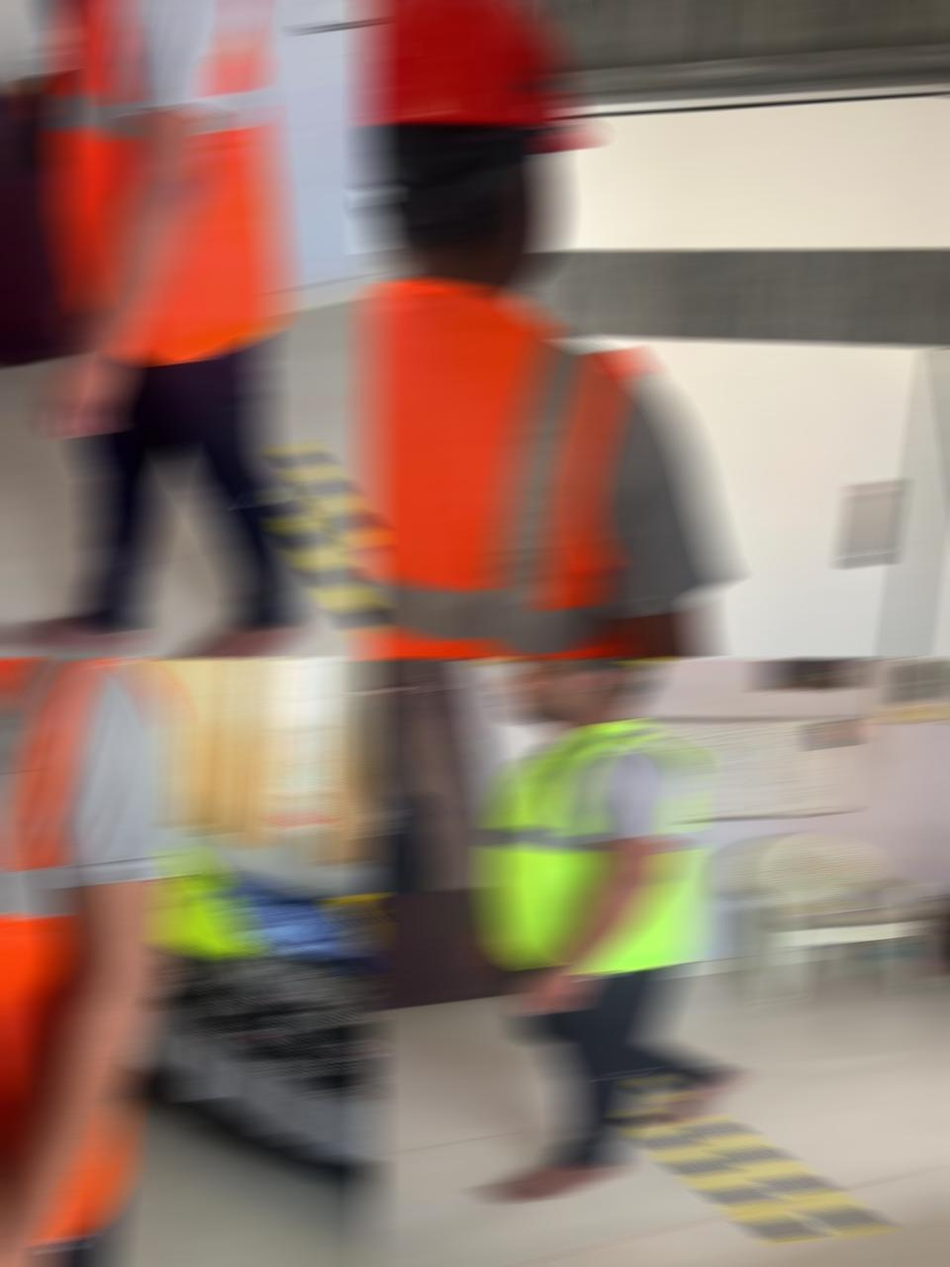BorderLine: (619, 1076, 885, 1243), (269, 444, 378, 658)
Helmet: (363, 0, 595, 150), (475, 659, 665, 671)
Person: (363, 0, 730, 658), (0, 0, 304, 657), (466, 659, 746, 1202), (0, 658, 186, 1266)
Vest: (363, 277, 649, 658), (0, 658, 178, 1240), (52, 0, 286, 363), (486, 719, 702, 973)
